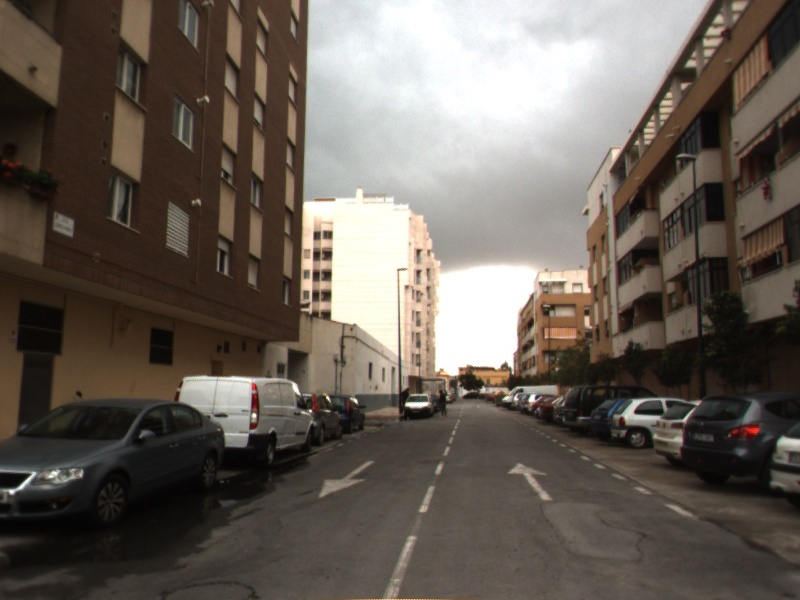STRAIGHT: (506, 461, 555, 502)
